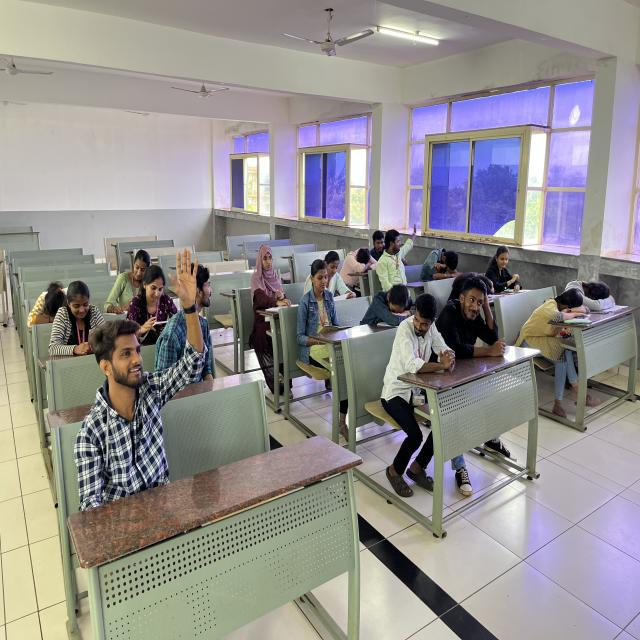Hand Rising: (89, 249, 207, 499)
Reading: (297, 256, 351, 358), (121, 263, 184, 341), (315, 247, 356, 309)
Sleeping: (526, 282, 586, 370), (361, 278, 422, 338), (564, 275, 626, 330), (24, 282, 82, 338), (416, 243, 465, 291), (340, 244, 378, 282)
Using Phone: (50, 279, 107, 362)
Writing: (104, 246, 152, 316)
